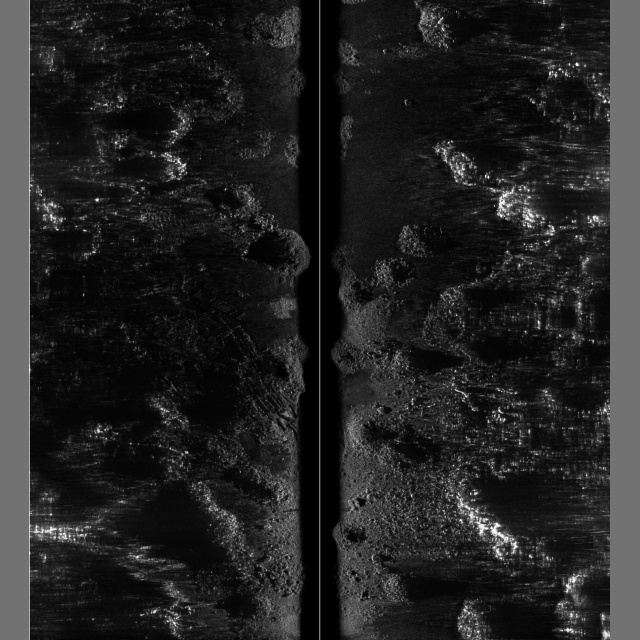Shipwreck: (193, 289, 299, 447)
